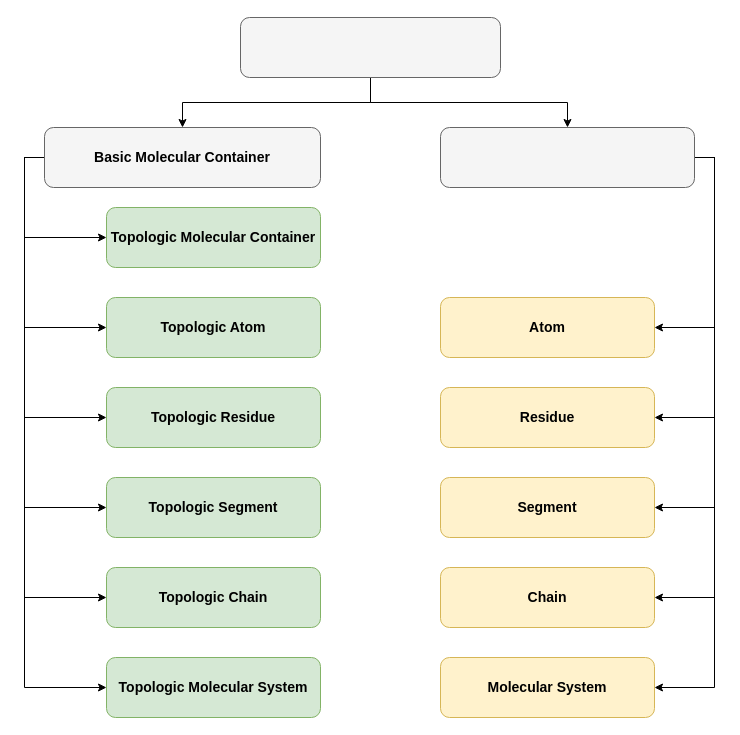
Image size: 740x735. Some labels were removed from this diagram. Each missing label, with the centre of its shape:
"Abstract Molecular Container" goes at (x=370, y=47).
"Full Molecular Container" goes at (x=567, y=157).
